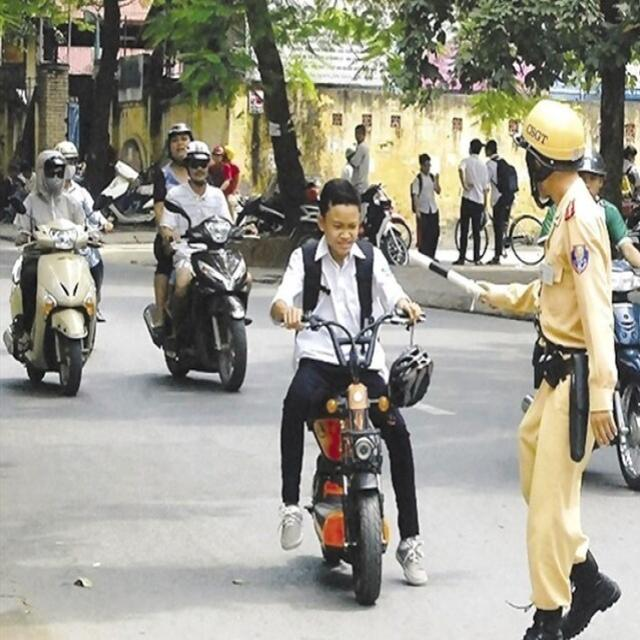Face and Hair: (314, 168, 364, 268)
